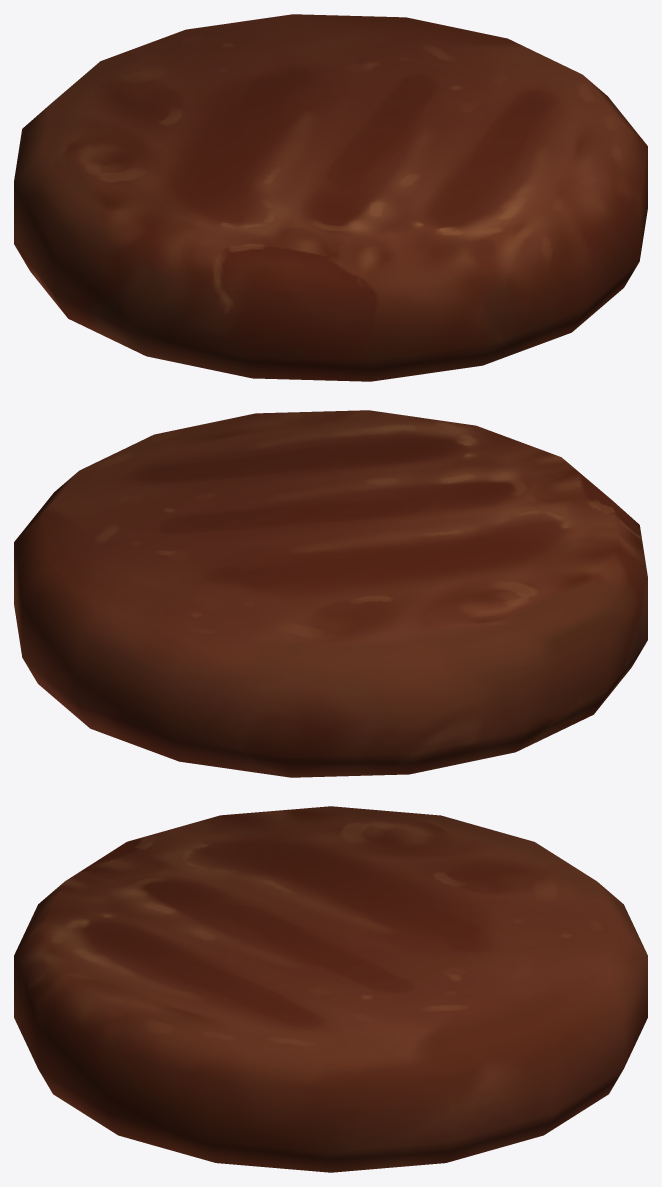
The model's file is burgermeat.fbx.
The picture shows the model from 3 angles, top to bottom: view 1: azimuth 30°, elevation 25°; view 2: azimuth 150°, elevation 25°; view 3: azimuth 270°, elevation 25°; orthographic projection.
Visible parts, largest first — view 1: burgermeat; view 2: burgermeat; view 3: burgermeat.
Boxes of the visible parts, x1,y1,x2,y2 form: burgermeat: [14, 14, 647, 381]; burgermeat: [14, 410, 647, 777]; burgermeat: [14, 806, 647, 1172].
Size of the model in its own units: 28.51 by 5.84 by 28.51.
